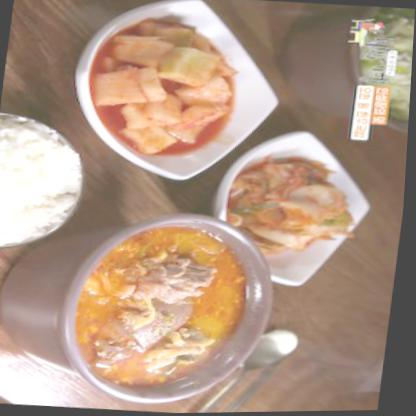Kimchi stew: (232, 155, 357, 253)
radish Kimchi: (82, 18, 250, 161)
rice ball: (0, 117, 84, 250)
spicy yuke jang: (65, 217, 260, 395)
